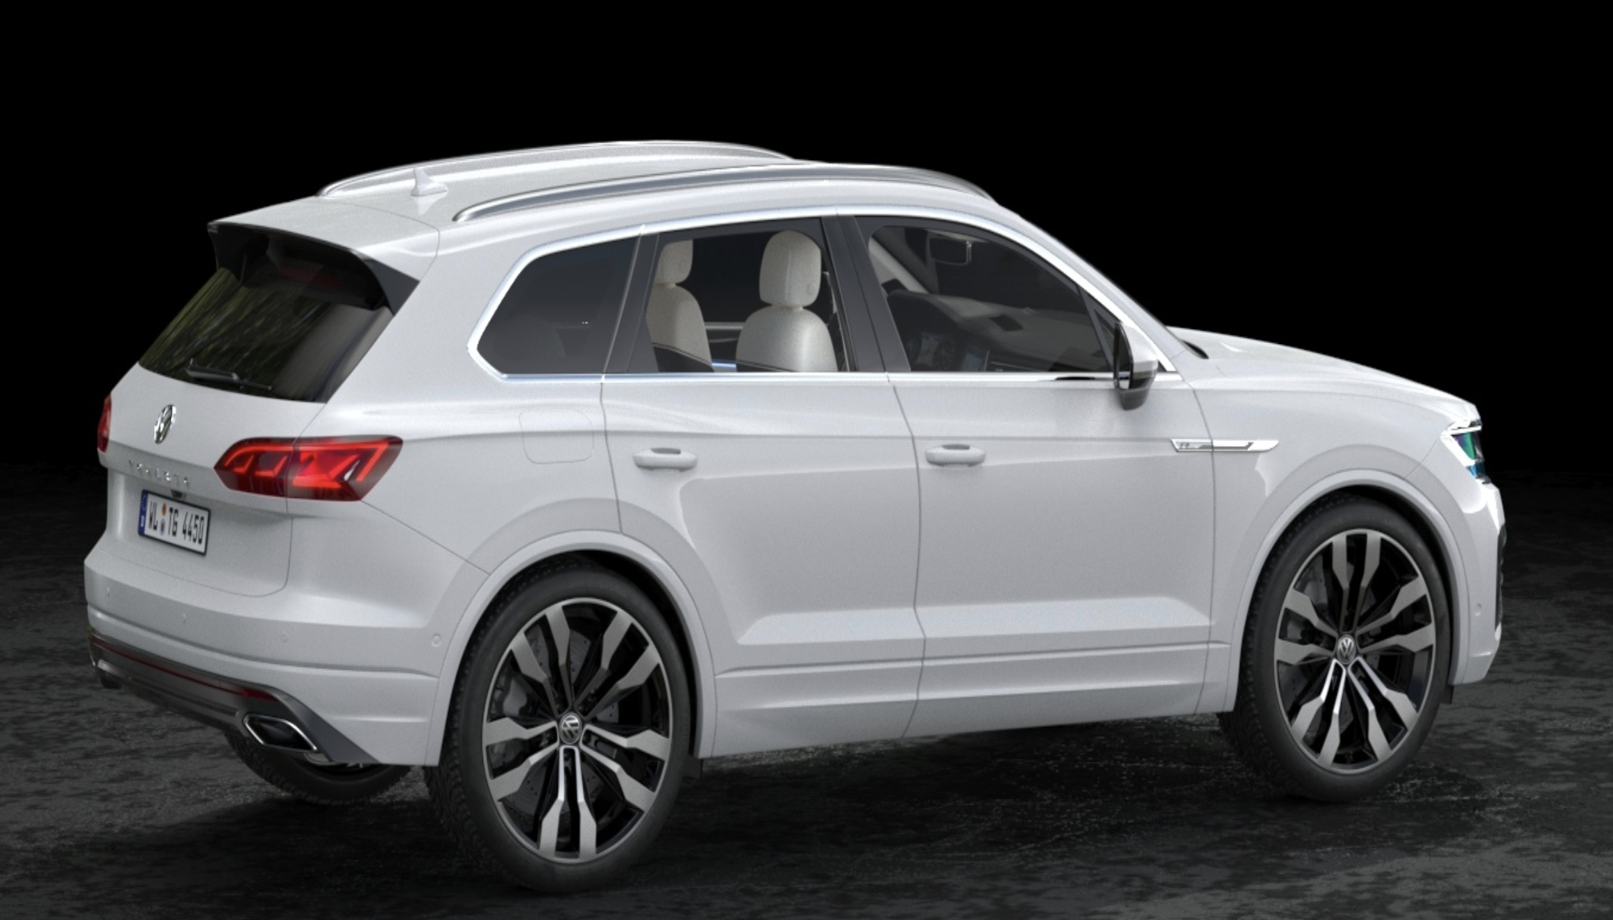hatch: (513, 401, 602, 471)
